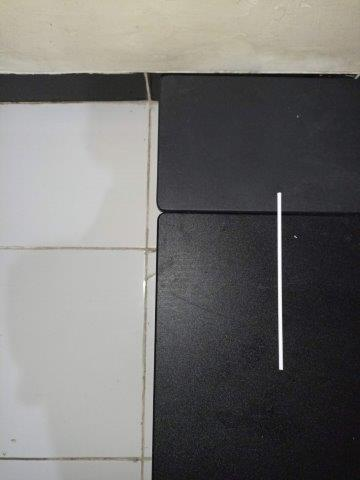sedotan: (277, 192, 283, 370)
